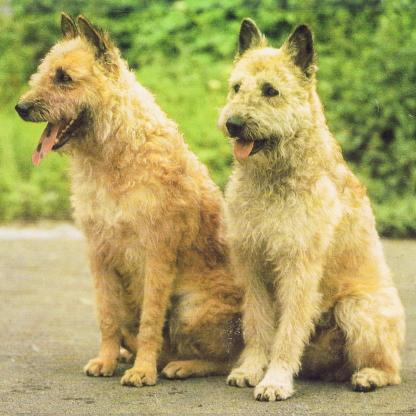Belgian Laekenois: (15, 11, 215, 376), (218, 16, 408, 395)
